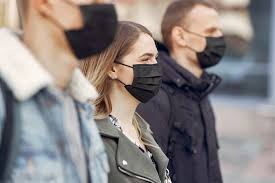with-mask: (12, 1, 122, 63), (97, 20, 165, 107), (157, 1, 233, 71)
